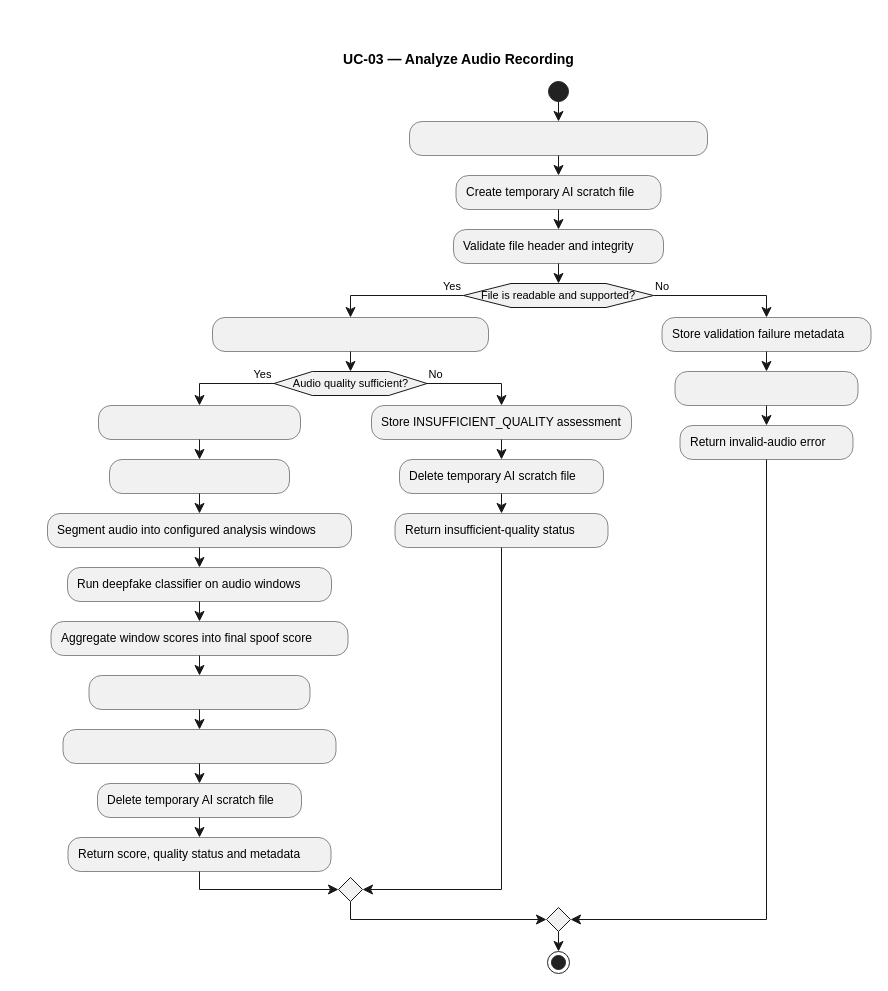
Some shapes in this 888 by 991 pixel diagram are drawn without their labels. The centre of each missing label's shape, as x and y in pixels:
"Convert signal to mono 16 kHz" goes at (x=199, y=422).
"Delete scratch file if created" goes at (x=766, y=388).
"Load calibrated decision threshold" goes at (x=199, y=692).
"Measure duration, silence ratio and clipping" goes at (x=350, y=334).
"Normalize signal amplitude" goes at (x=199, y=476).
"Receive assessment request from Sada Platform" goes at (x=558, y=138).
"Store assessment and traceability metadata" goes at (x=199, y=746).
